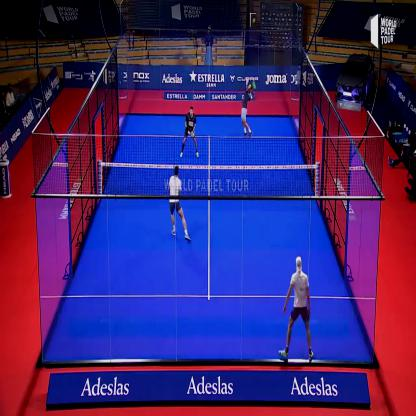ball: (250, 13, 257, 28)
